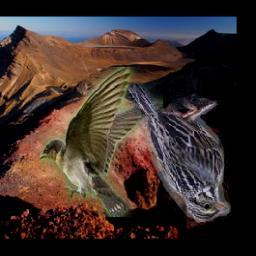Sparrow: (127, 82, 230, 224)
Swallow: (40, 68, 163, 218)
